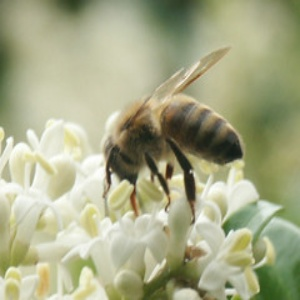bee: (102, 64, 244, 224)
